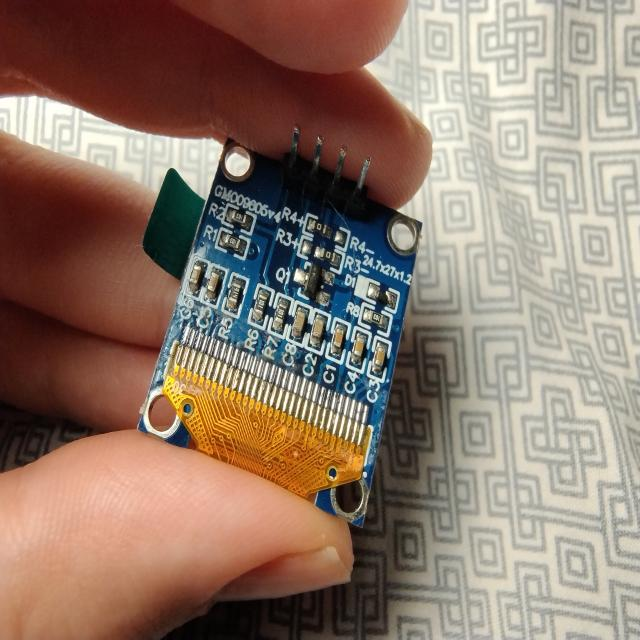oled: (140, 113, 430, 537)
